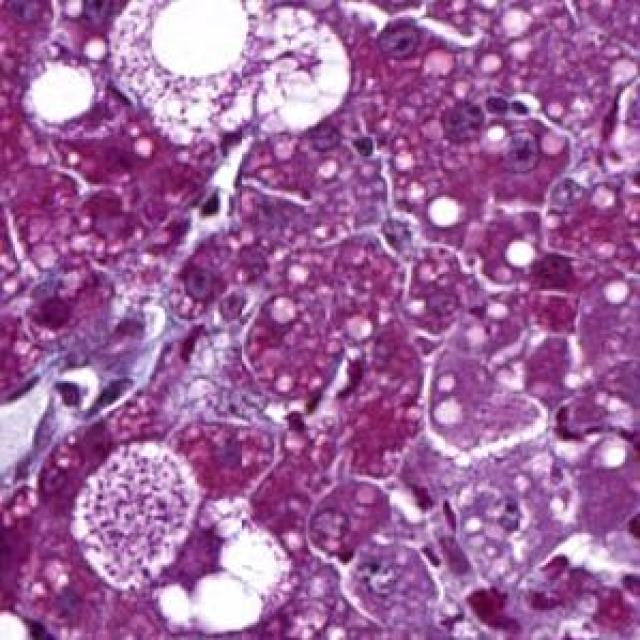ballooning: (143, 490, 300, 640), (240, 7, 357, 142)
